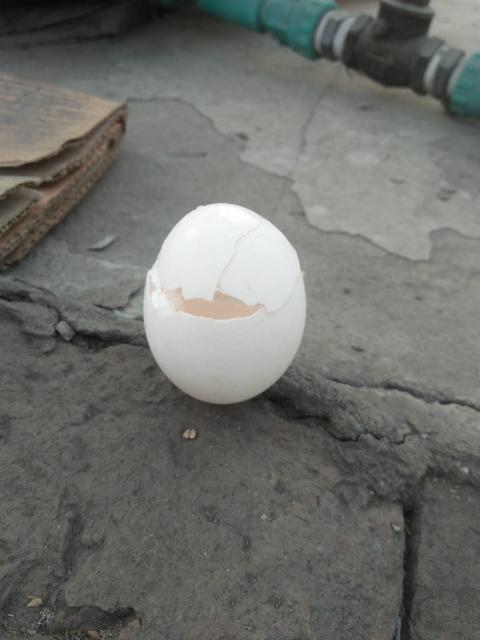Roto: (142, 201, 307, 405)
